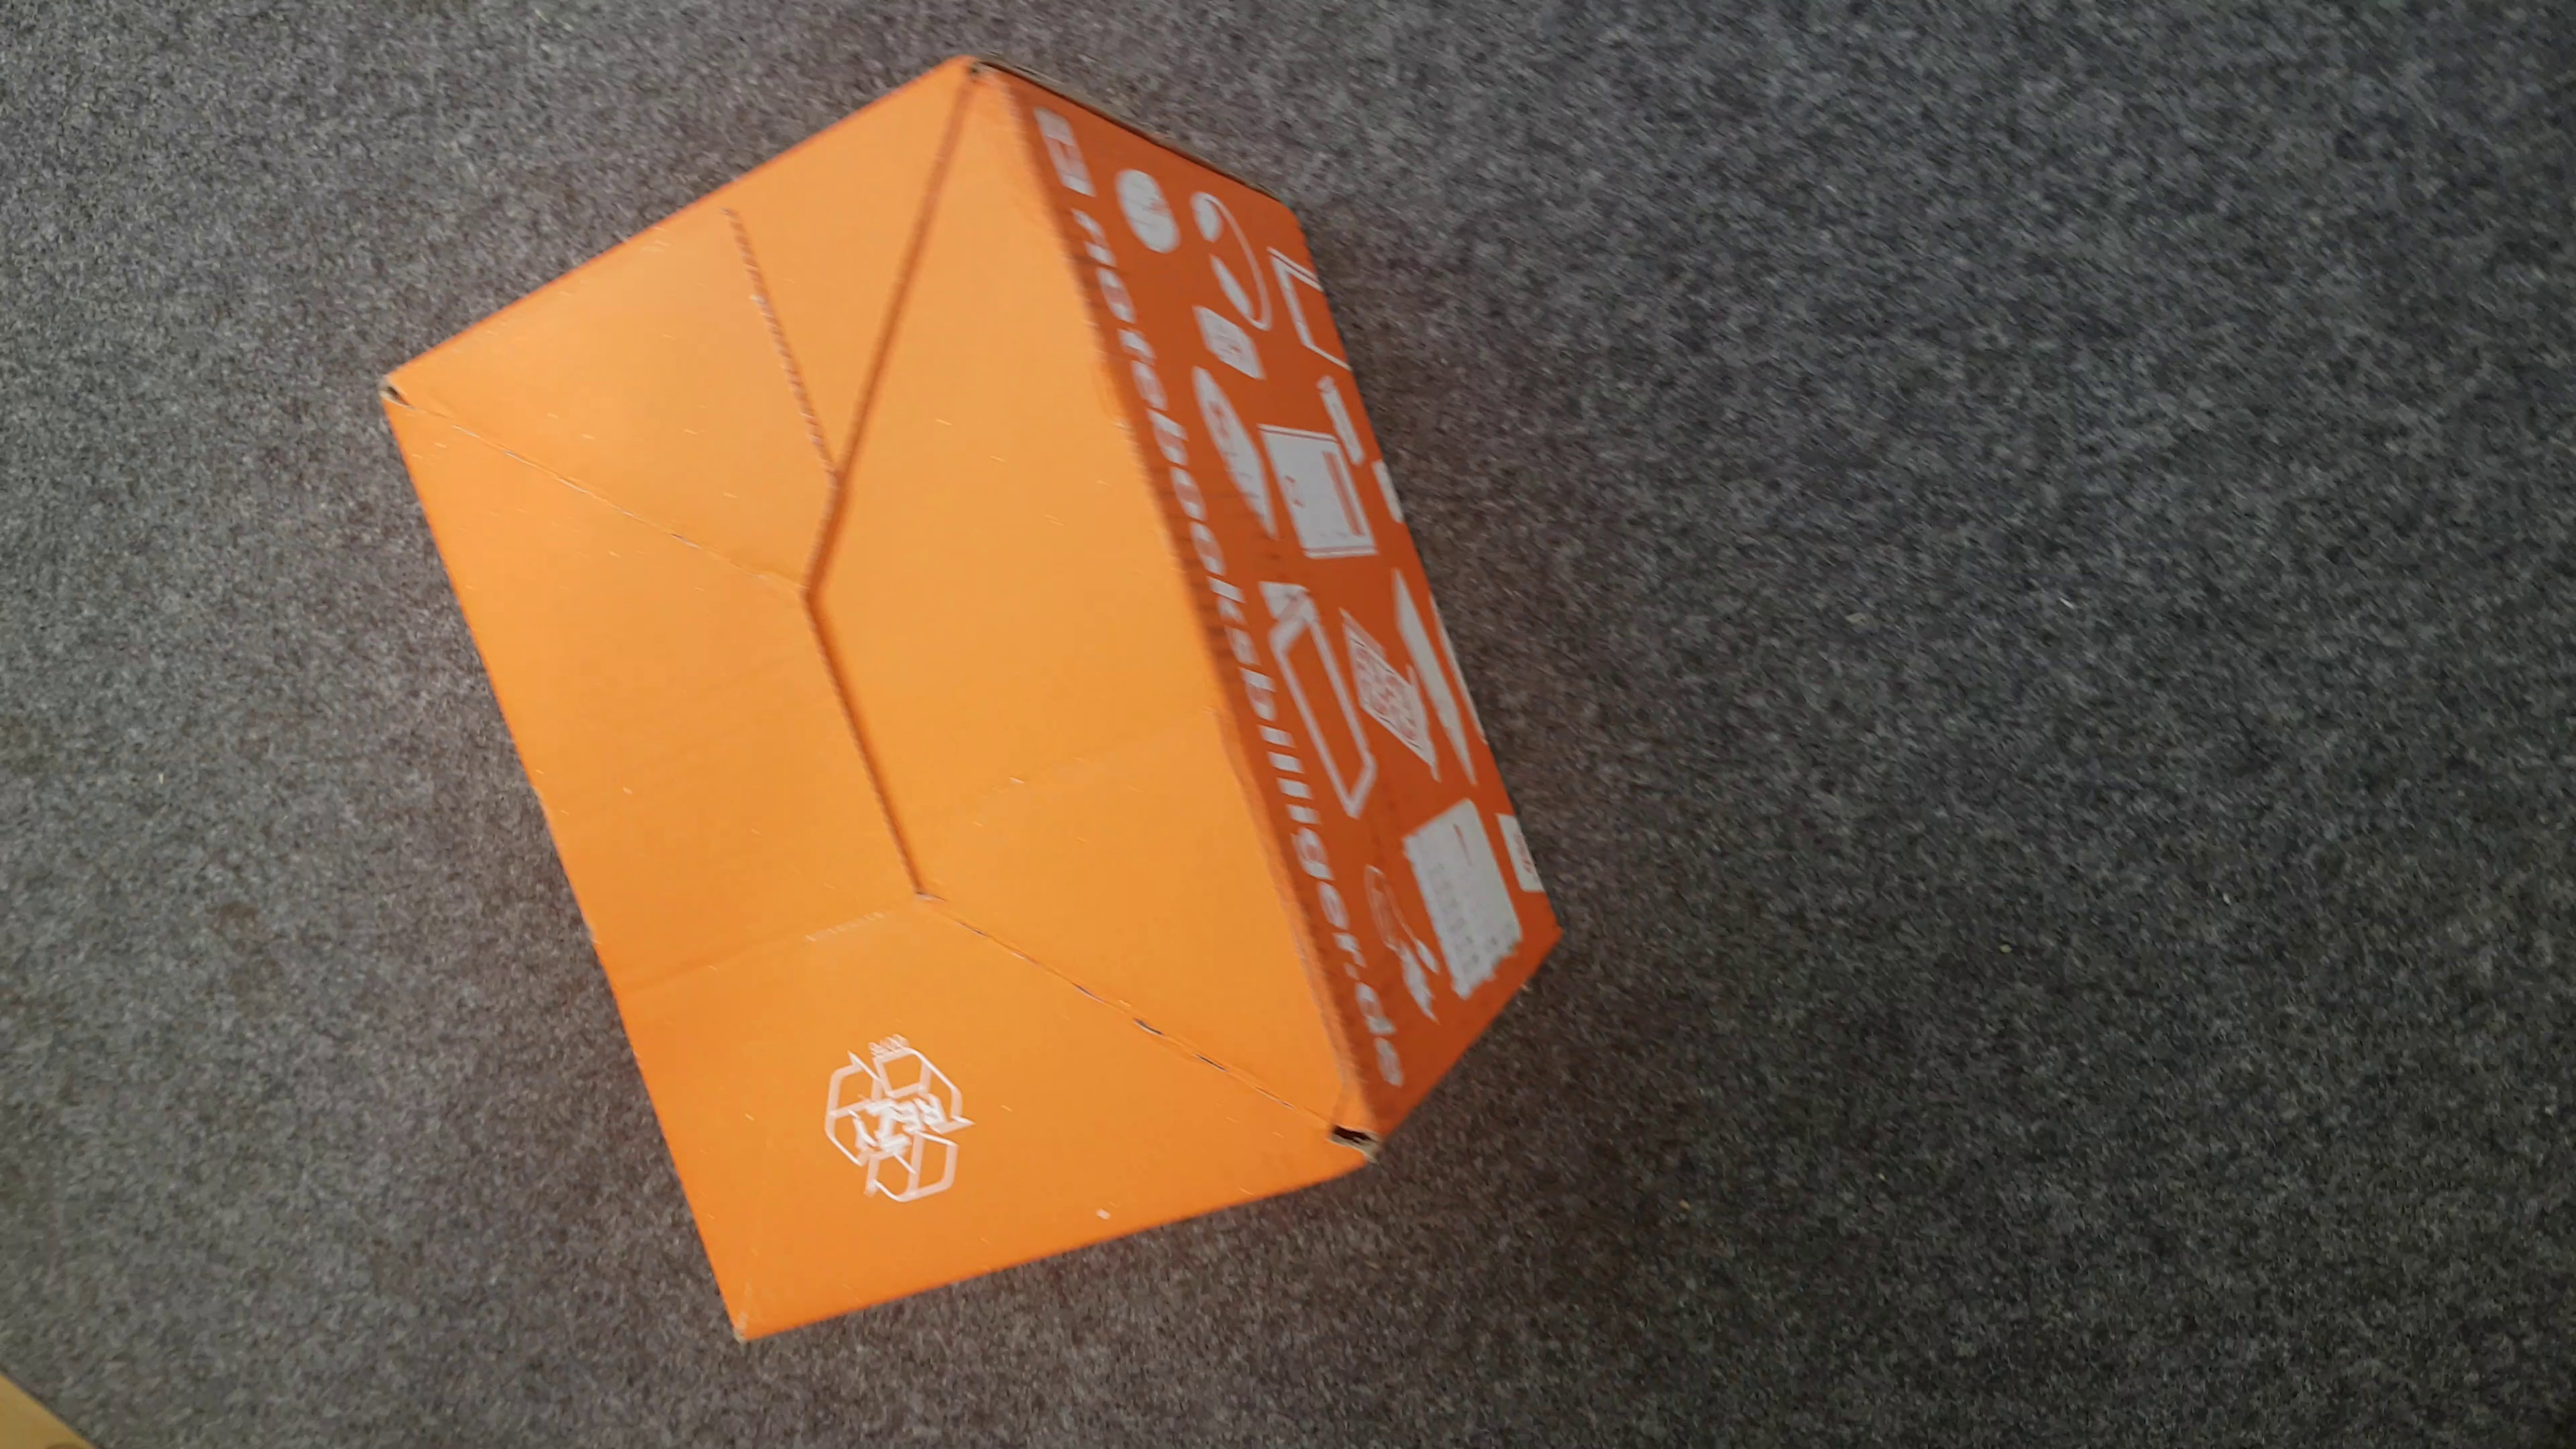push: (372, 53, 1564, 1339)
